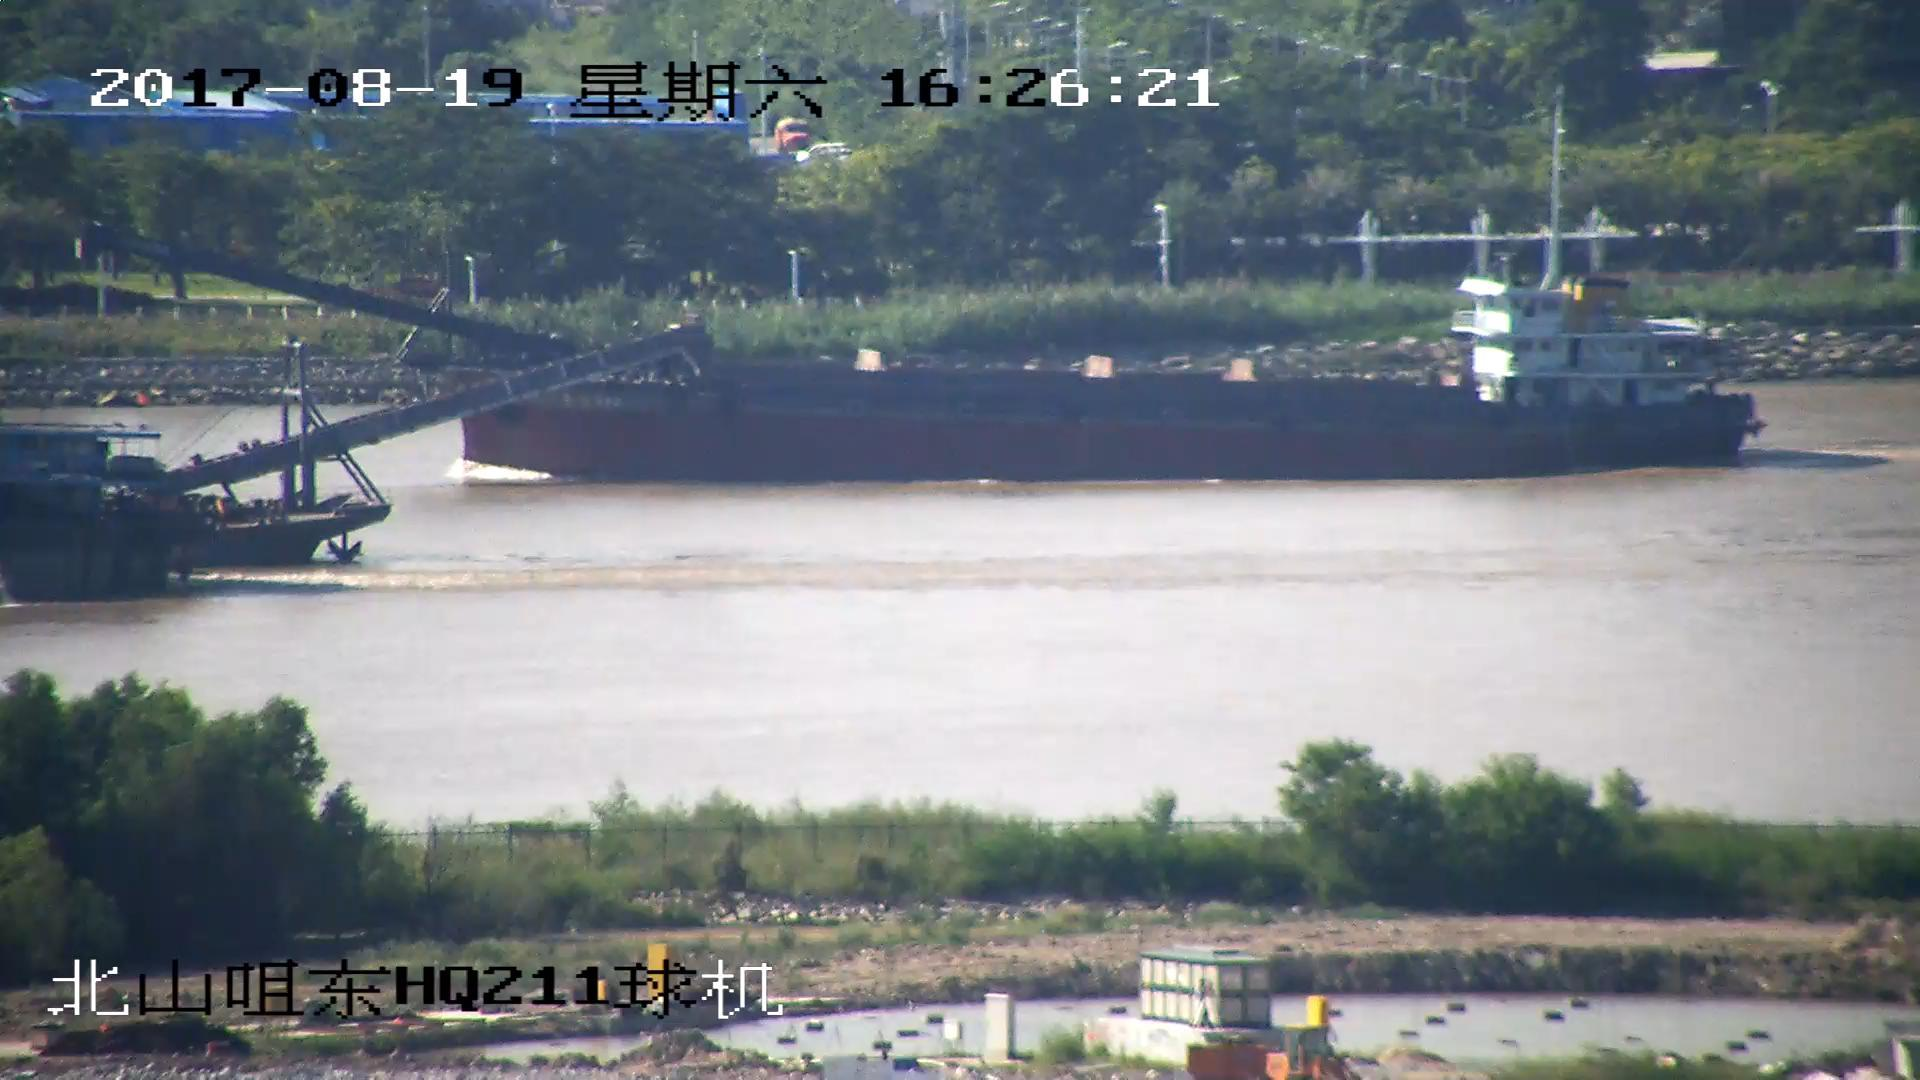Ship: (80, 227, 1760, 477), (3, 326, 698, 563)
